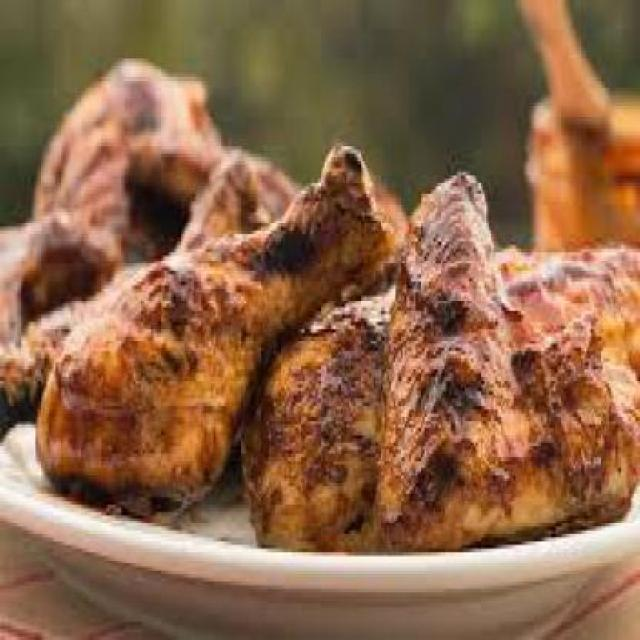Frango: (2, 51, 638, 578)
